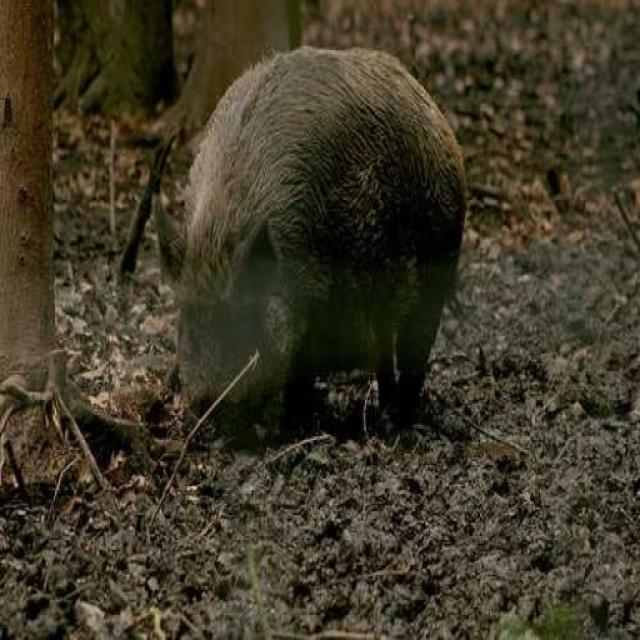pig: (102, 0, 492, 443)
